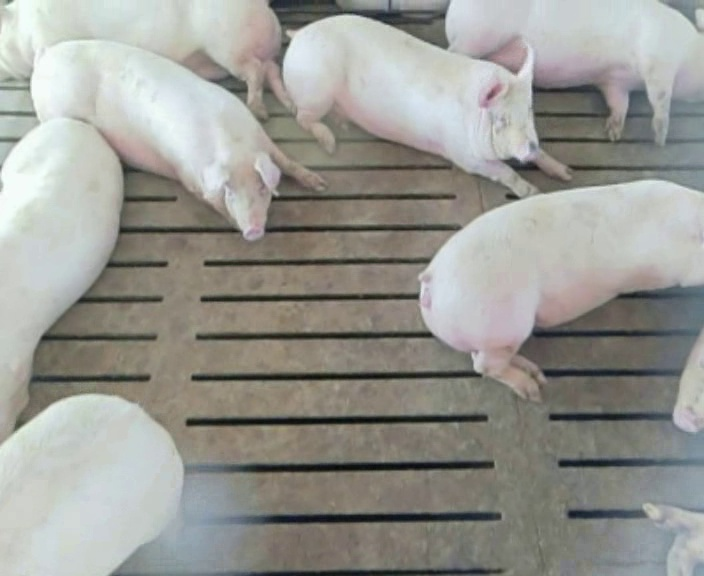pig: (420, 180, 703, 400), (31, 40, 323, 239), (283, 16, 570, 196), (0, 118, 122, 442), (446, 2, 703, 144), (0, 394, 182, 574)
